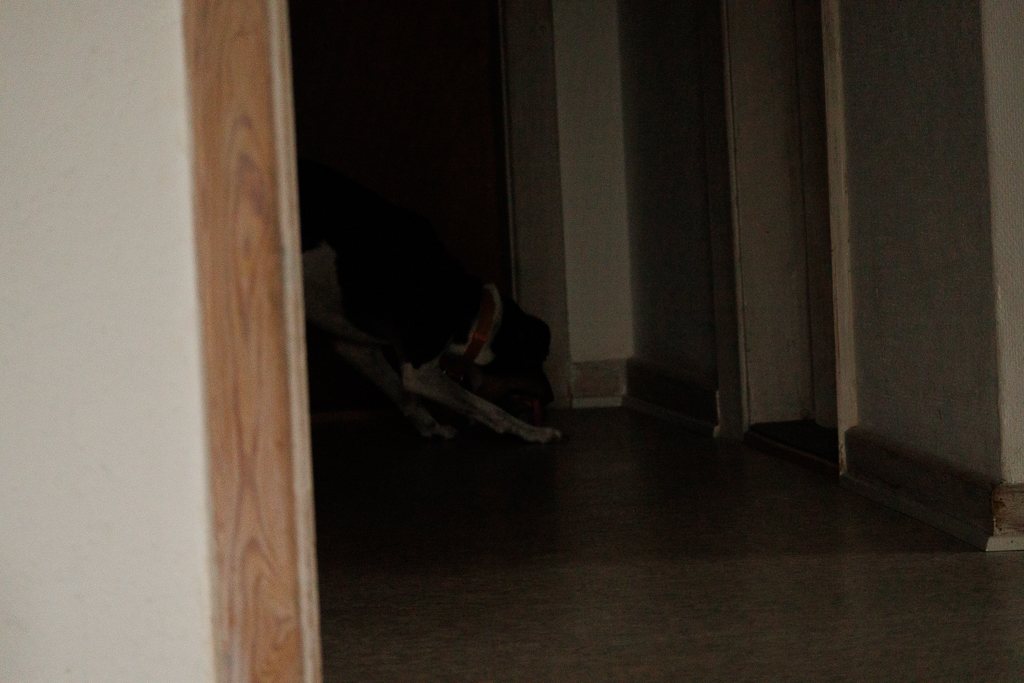Dog: (308, 238, 574, 458)
